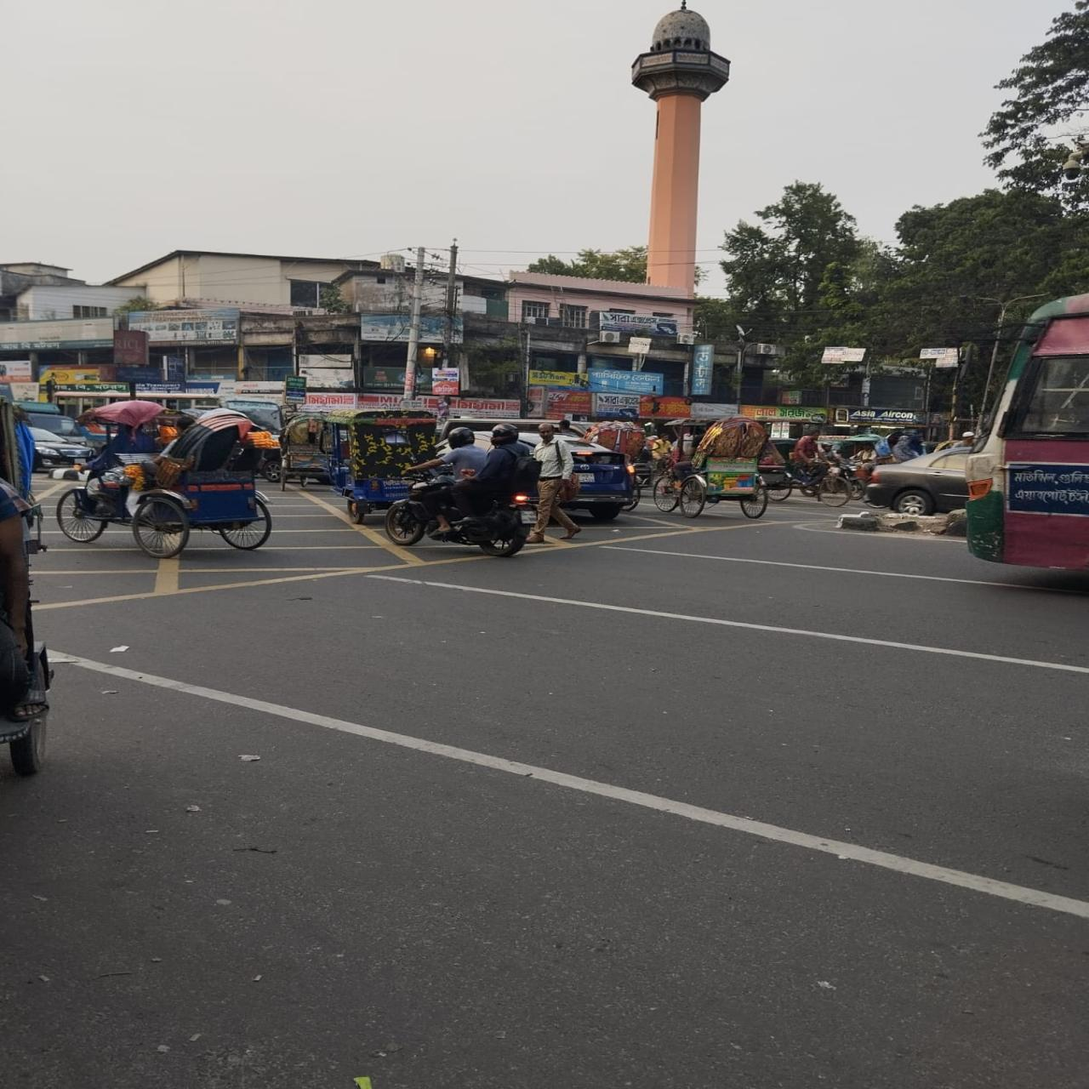person: (527, 423, 584, 543)
